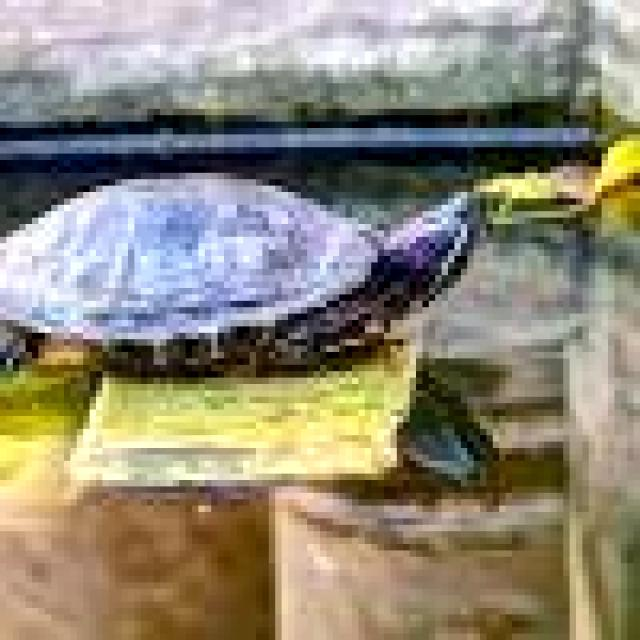Sea turtle: (0, 154, 525, 390)
